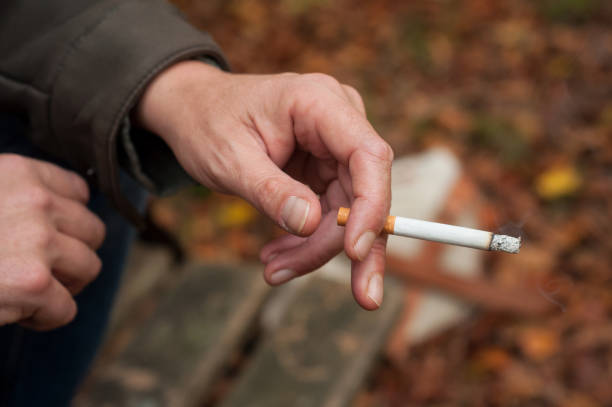cigarette: (336, 206, 522, 255)
